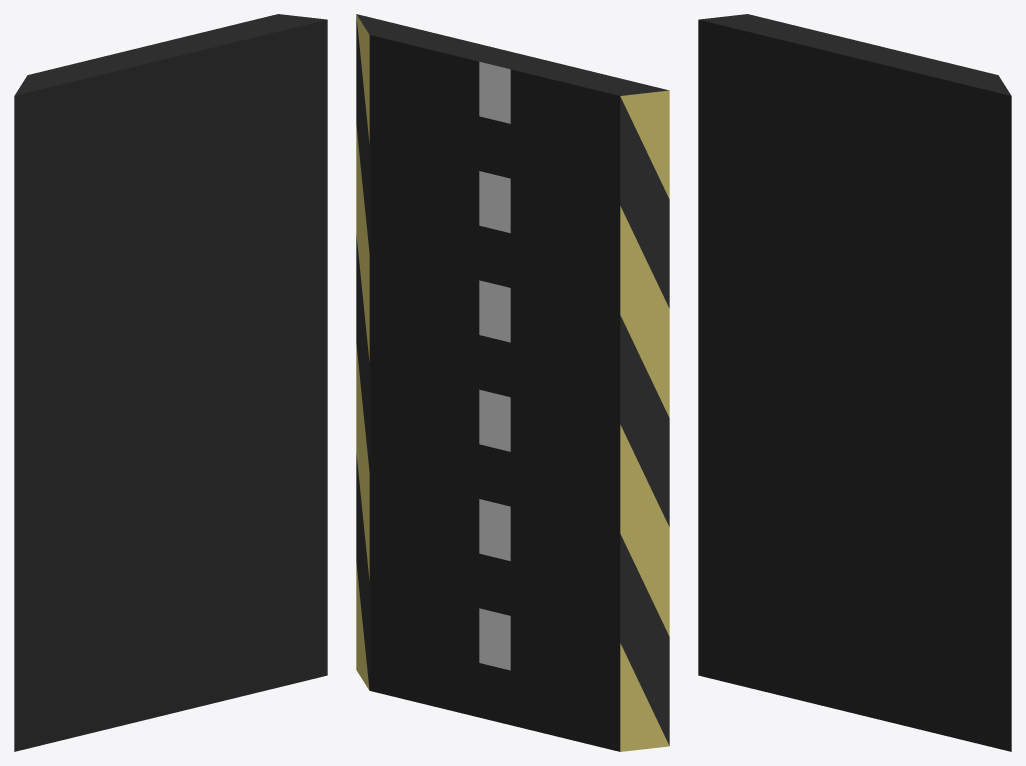
File: forklift_path.fbx
The picture shows the model from 3 angles, left to right: view 1: azimuth 30°, elevation 25°; view 2: azimuth 150°, elevation 25°; view 3: azimuth 330°, elevation 25°; orthographic projection.
Parts seen in each view (by area): view 1: Cube; view 2: Cube; view 3: Cube.
Part boxes in pixels (x1,y1,x2,y2): Cube: (14,14,327,751); Cube: (356,14,669,751); Cube: (698,14,1011,751).
Size of the model in its own units: 100 by 200 by 10.
